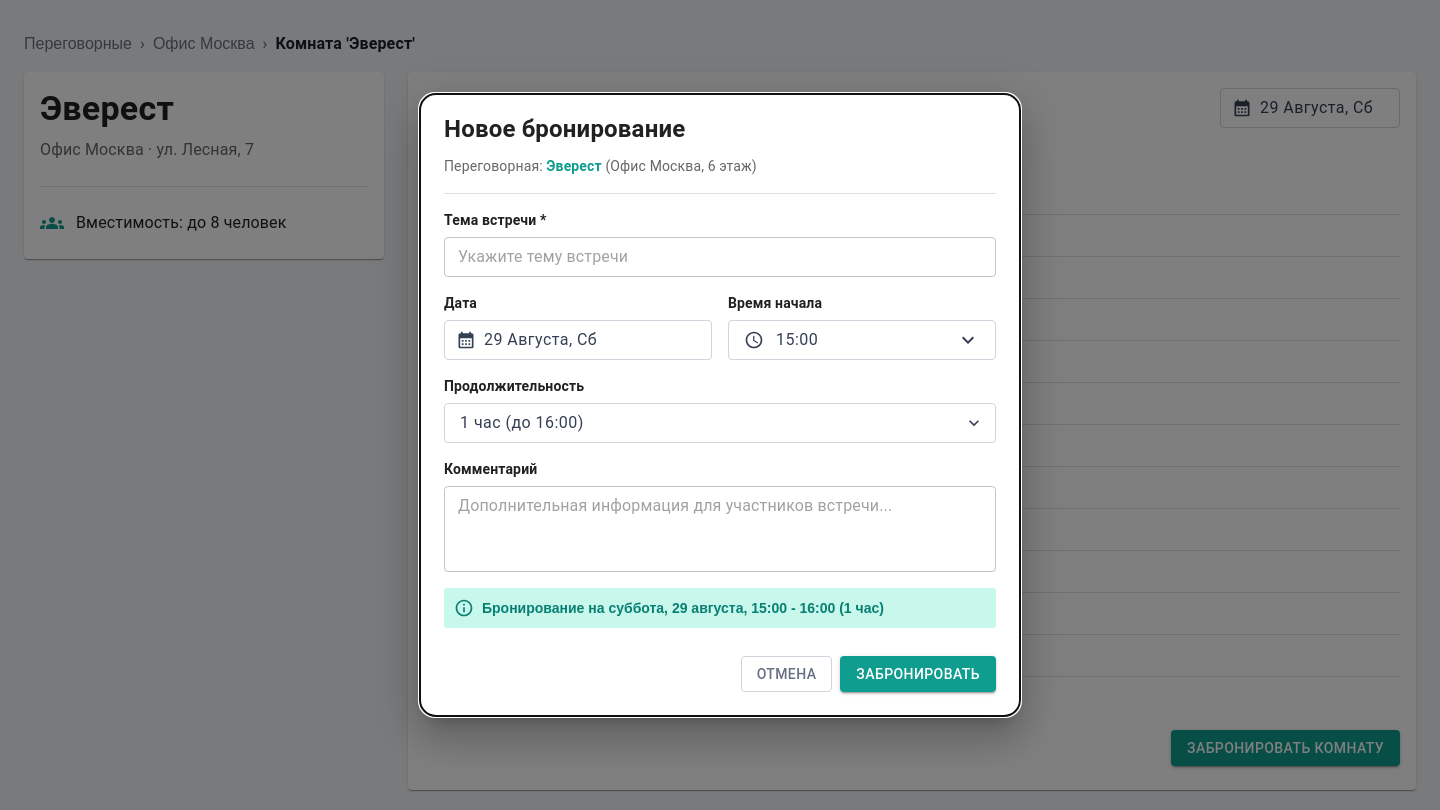
Test: Room booking form › shows conflict dialog for 409 response
The width and height of the screenshot is (1440, 810).
Expected: the heading "Новое бронирование" is shown, [444, 114, 685, 142]
Step 1. Type "Синк команды" into the field with placeholder "Укажите тему встречи" → (720, 257), box [444, 237, 996, 277]
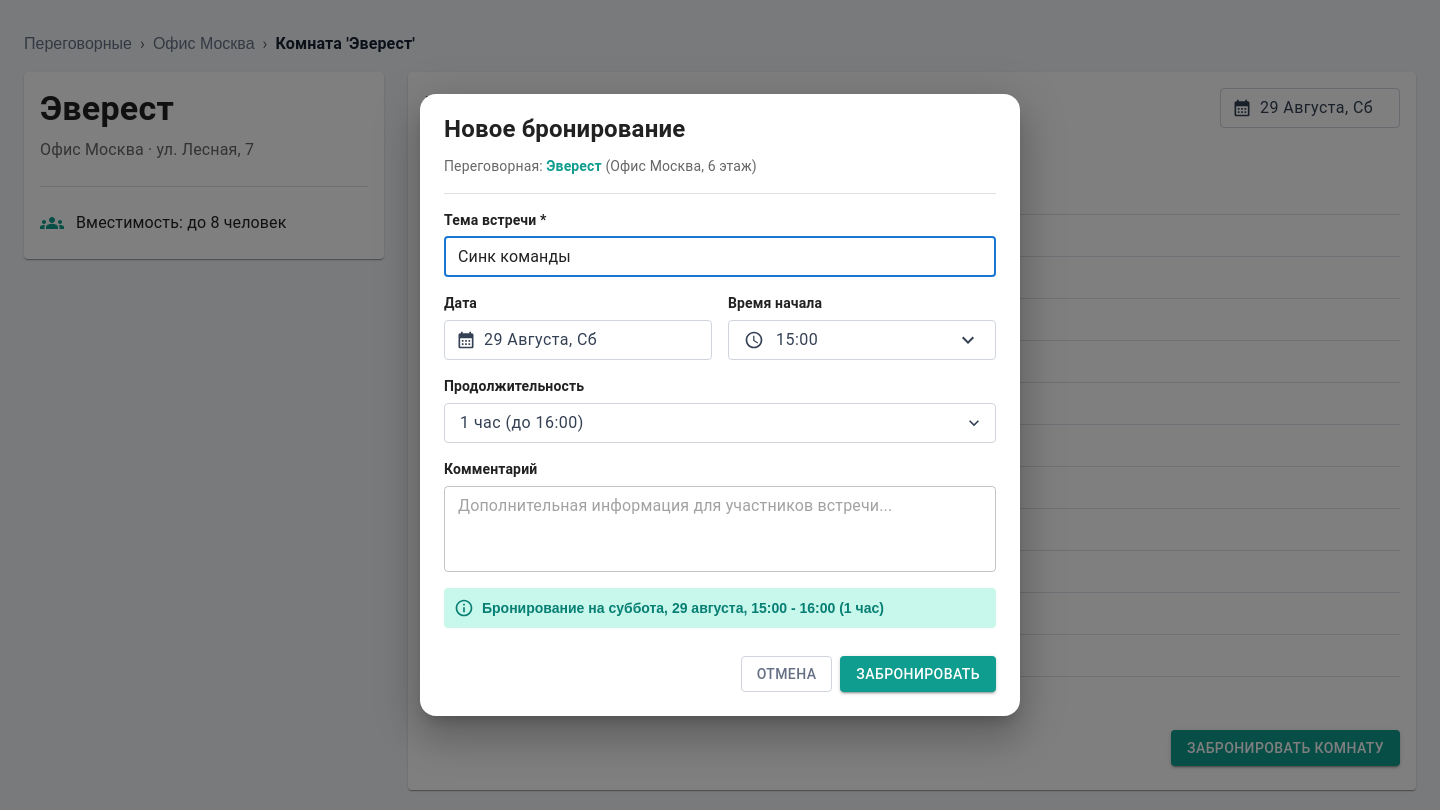
Step 2. Click the button "Забронировать" → (918, 674), box [840, 656, 996, 692]
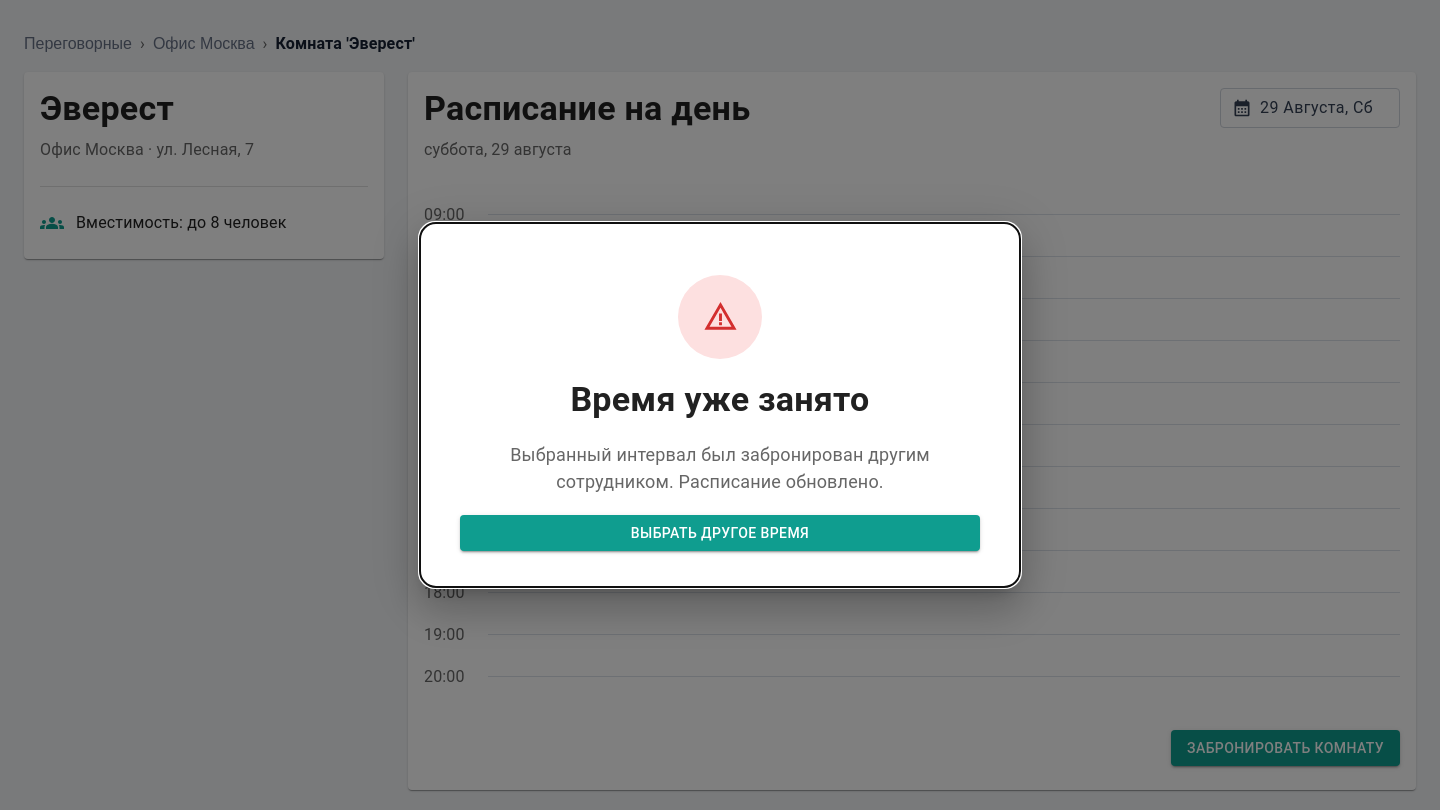
Result: the heading "Время уже занято" is shown at [570, 379, 870, 421]
Result: the button "Выбрать другое время" is shown at [460, 515, 980, 551]
